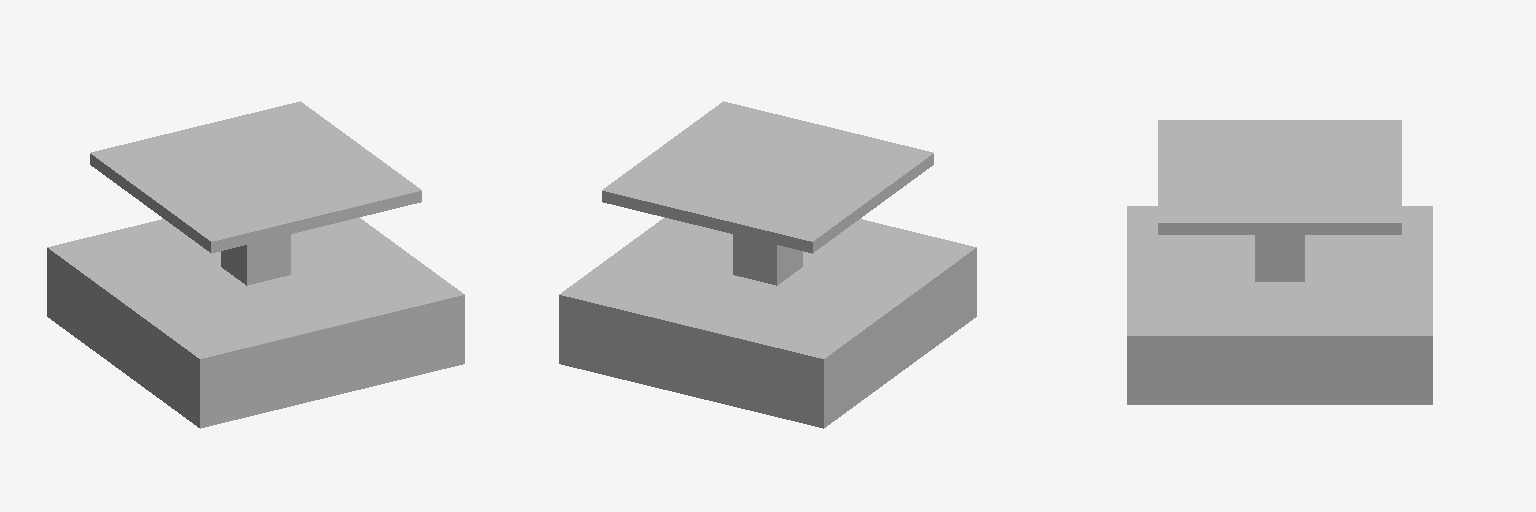
Rendered from FoodShelf.obj.
The picture shows the model from 3 angles: view 1: azimuth 30°, elevation 25°; view 2: azimuth 150°, elevation 25°; view 3: azimuth 270°, elevation 25°; orthographic projection.
Visible parts, largest first — view 1: pCube1, pCube3, pCube2; view 2: pCube1, pCube3, pCube2; view 3: pCube1, pCube3, pCube2.
Boxes of the visible parts, box(x1,y1,x2,y2) form: pCube1: box(47, 217, 464, 428); pCube3: box(90, 101, 421, 253); pCube2: box(221, 234, 290, 285); pCube1: box(559, 217, 976, 428); pCube3: box(602, 101, 933, 253); pCube2: box(733, 234, 802, 285); pCube1: box(1127, 206, 1432, 404); pCube3: box(1158, 120, 1401, 234); pCube2: box(1255, 235, 1304, 281).
Size of the model in its own units: 6 by 3.65 by 6.